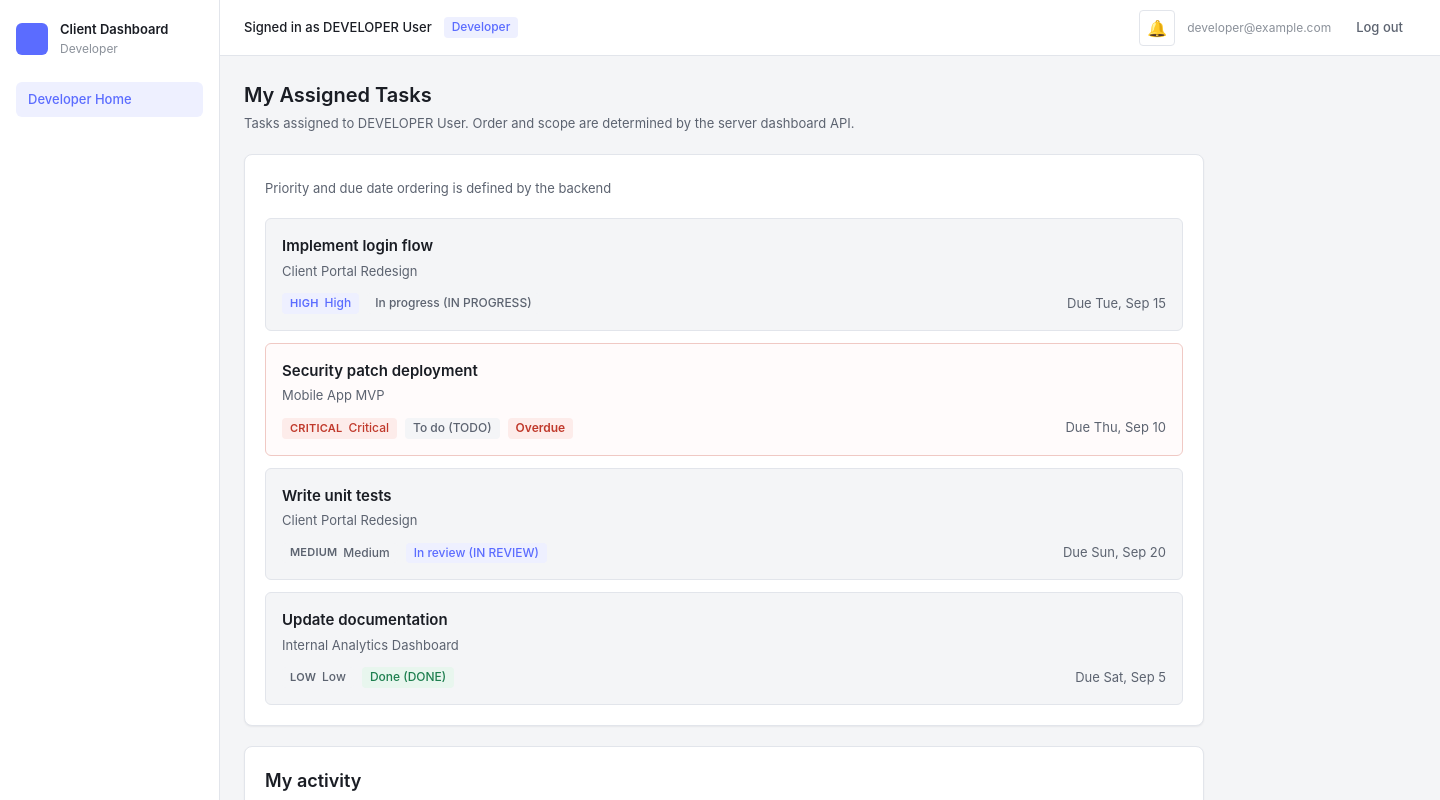
it: Authentication session behavior › clears the session and returns to login after logout
Expected: the heading "My Assigned Tasks" is shown, [244,83,432,107]
Click the button "Log out" at coordinates (1380, 28), box [1343,12,1416,44]
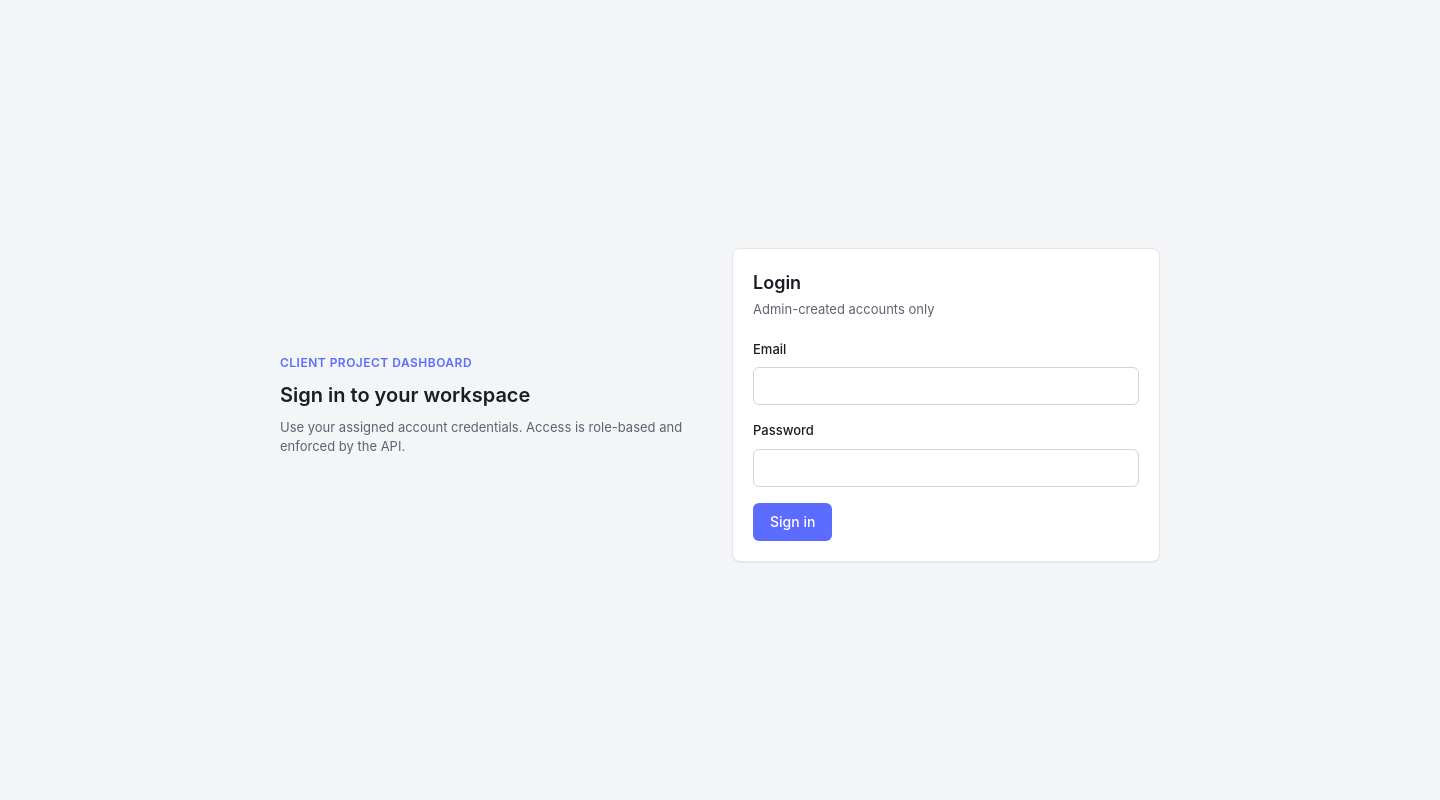
Result: the heading "Sign in to your workspace" is shown at [280,382,530,406]
